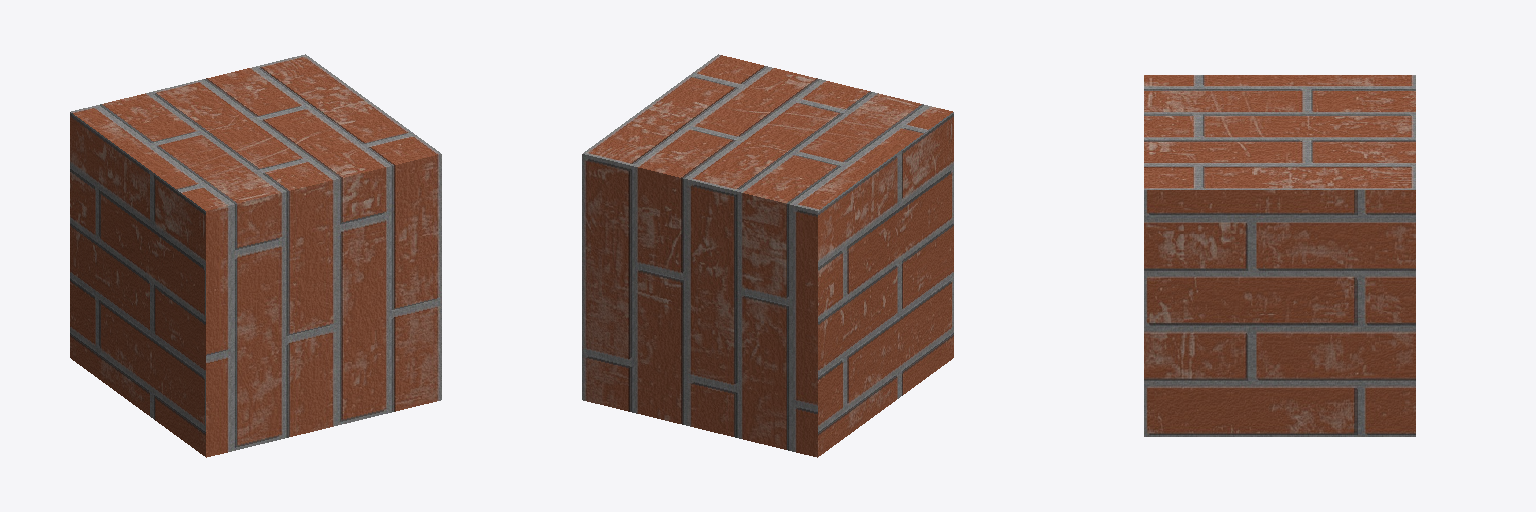
3 views of the same model, side by side, from view 1: azimuth 30°, elevation 25°; view 2: azimuth 150°, elevation 25°; view 3: azimuth 270°, elevation 25° (orthographic).
Visible parts, largest first — view 1: Cube_Cube.001; view 2: Cube_Cube.001; view 3: Cube_Cube.001.
Boxes of the visible parts, x1,y1,x2,y2 form: Cube_Cube.001: [70, 54, 441, 457]; Cube_Cube.001: [582, 54, 953, 457]; Cube_Cube.001: [1144, 75, 1415, 436].
Size of the model in its own units: 2 by 2 by 2.
Materials: 1 (1 with a texture image).